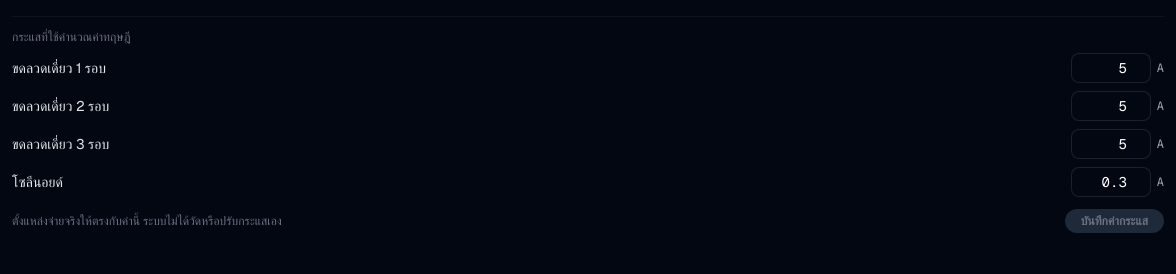
Scenario: CurrentSettings › sends only the values that were changed
The width and height of the screenshot is (1176, 274).
Replace the text in the number field labelled "โซลีนอยด์" with "0.45" at coordinates (1111, 182), box [1071,167,1151,197]
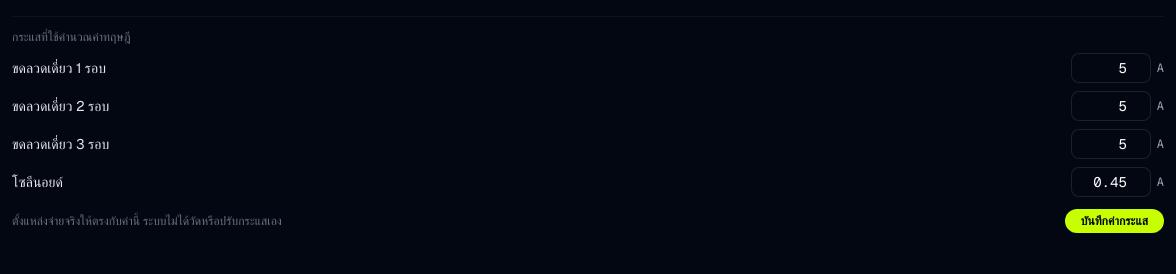
Click the button "บันทึกค่ากระแส" at coordinates (1114, 221), box [1065,209,1164,233]
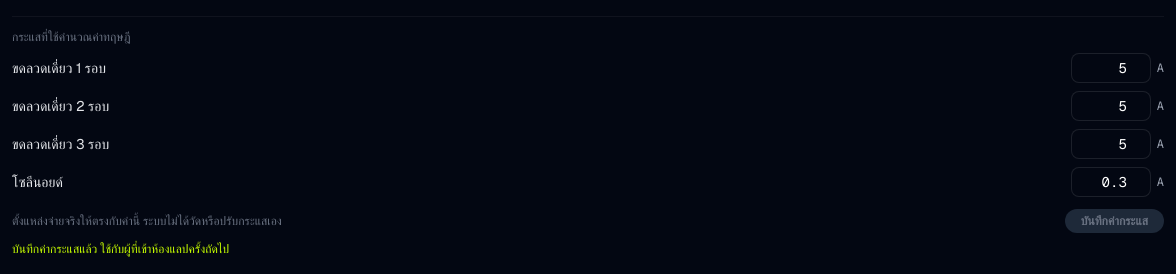
Result: the message reads "บันทึกค่ากระแสแล้ว ใช้กับผู้ที่เข้าห้องแลปครั้งถัดไป" at [12,241,229,257]
